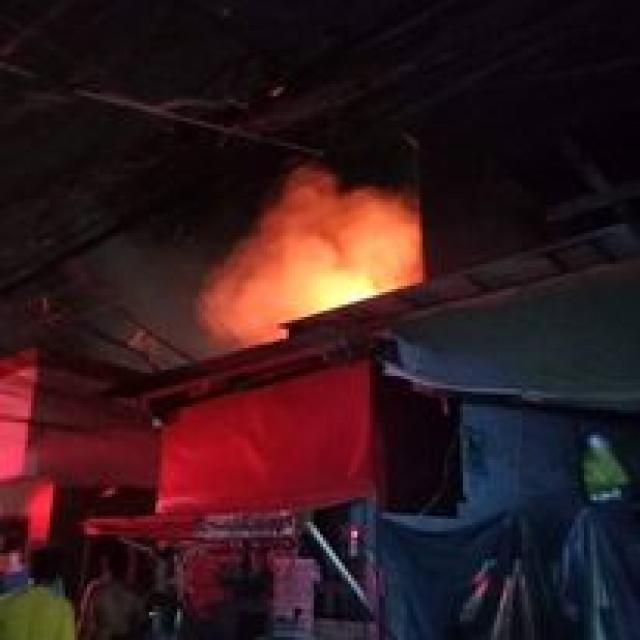Fire: (211, 165, 425, 338)
